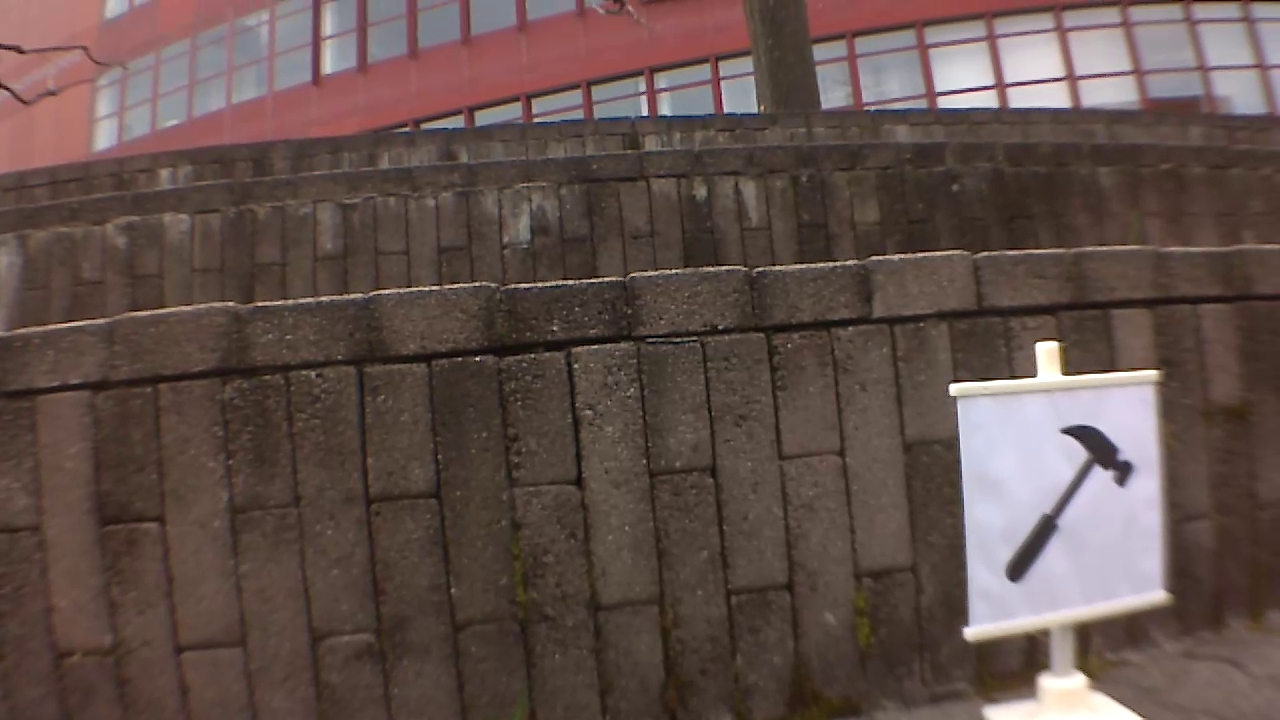hammer: (1000, 416, 1141, 594)
